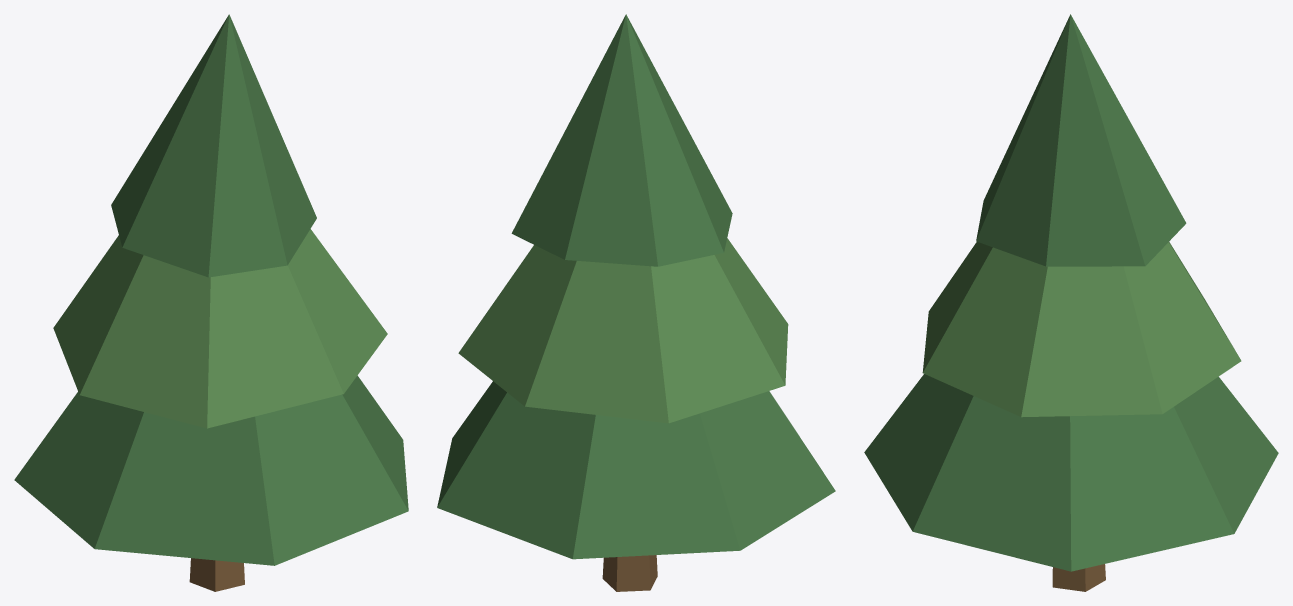
Rendered from tree_conifer.glb.
3 views of the same model, side by side, from view 1: azimuth 30°, elevation 25°; view 2: azimuth 150°, elevation 25°; view 3: azimuth 270°, elevation 25° (orthographic).
Parts seen in each view (by area): view 1: tree_conifer; view 2: tree_conifer; view 3: tree_conifer.
Part boxes in pixels (box(x1,y1,x2,y2)): tree_conifer: box(14, 14, 408, 591); tree_conifer: box(437, 14, 835, 591); tree_conifer: box(864, 14, 1278, 591).
Size of the model in its own units: 5.75 by 8.96 by 5.9.
